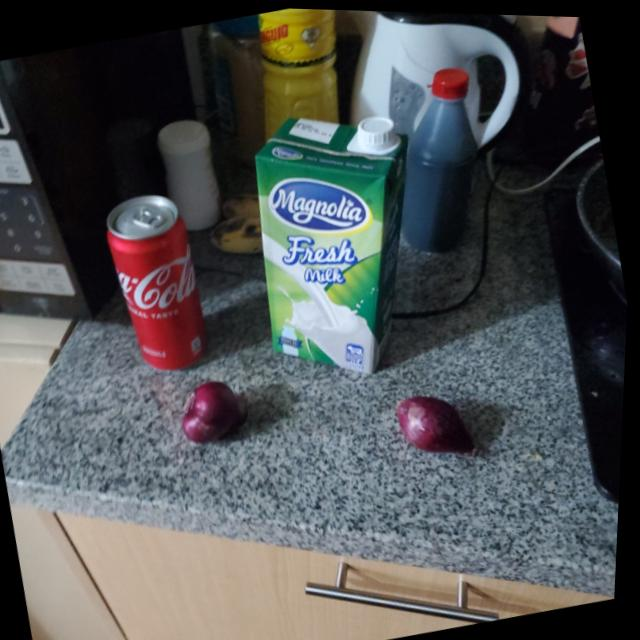coke: (95, 185, 226, 383)
milk: (227, 90, 454, 390)
onion: (177, 369, 258, 444), (396, 379, 475, 455)
